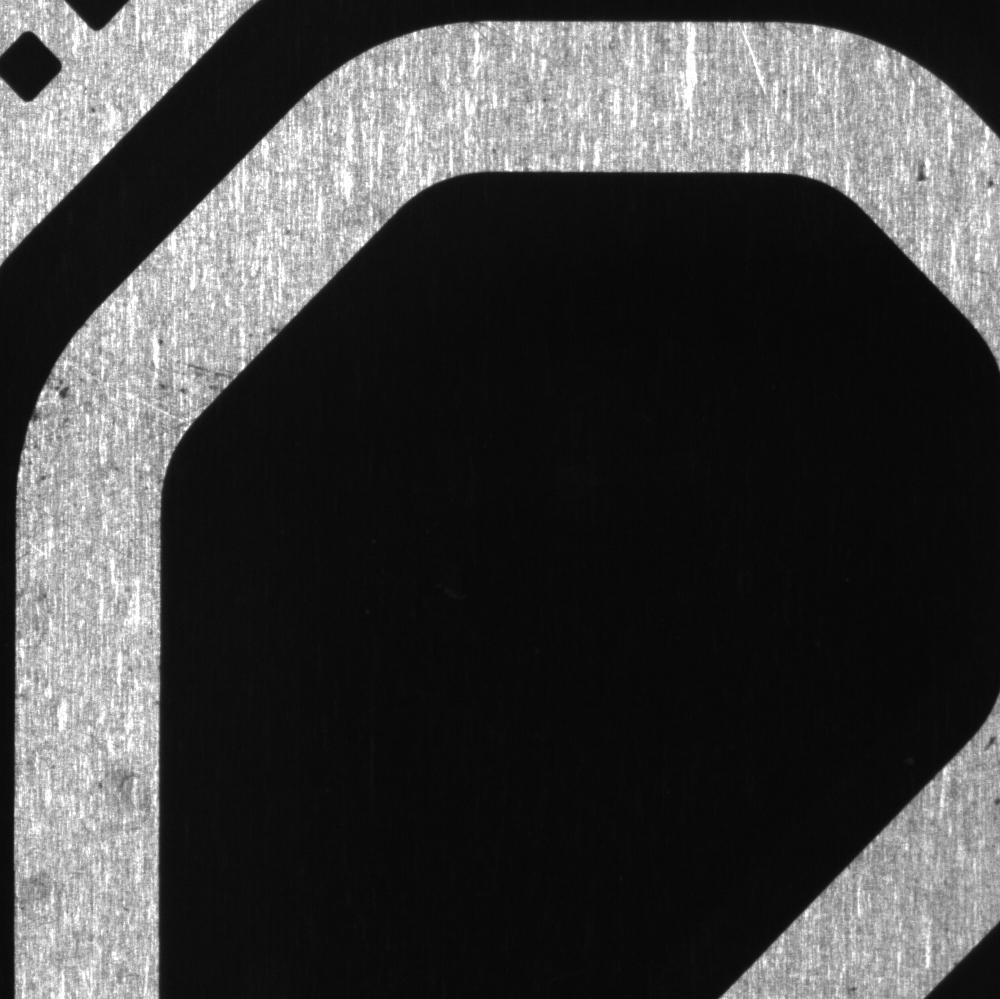Discolor: (86, 752, 161, 857)
Etching: (17, 374, 93, 508), (135, 320, 230, 403), (910, 144, 941, 198)
Scar: (464, 23, 577, 76), (67, 518, 160, 580), (738, 21, 773, 111)
